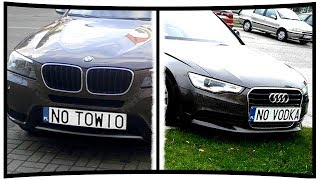number_plate: (42, 106, 127, 131), (249, 106, 302, 124)
